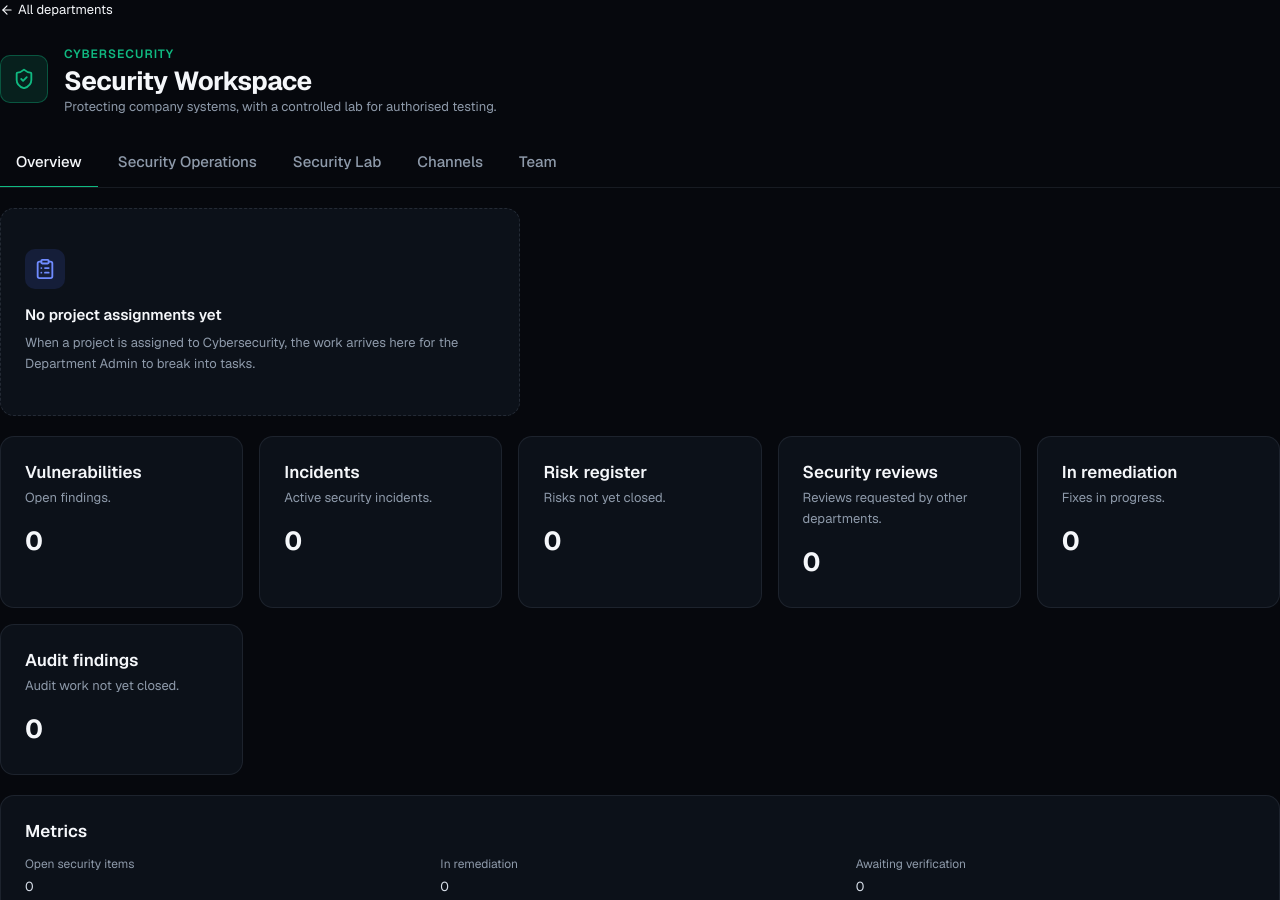
Test case: Department environment › Cybersecurity has Security Operations and a Security Lab with the authorised-use notice
The width and height of the screenshot is (1280, 900).
expect the heading "Security Workspace" is shown: met, box [64,64,312,98]
Click the tab "Security Lab" at (337, 163), box [277,138,397,188]
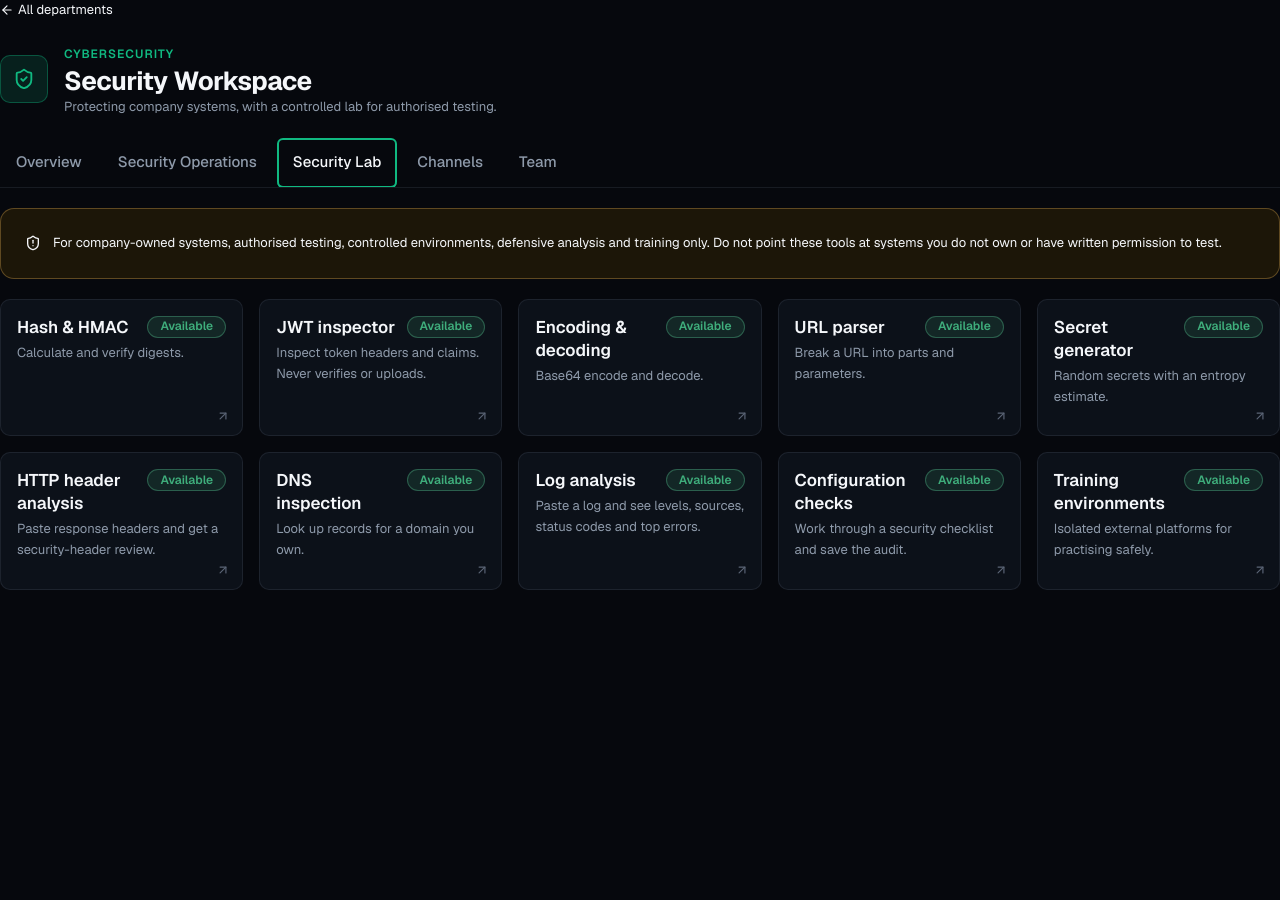
expect the heading "Hash & HMAC" is shown: met, box [17,316,129,339]
Click the tab "Security Operations" at (187, 163), box [102,138,273,188]
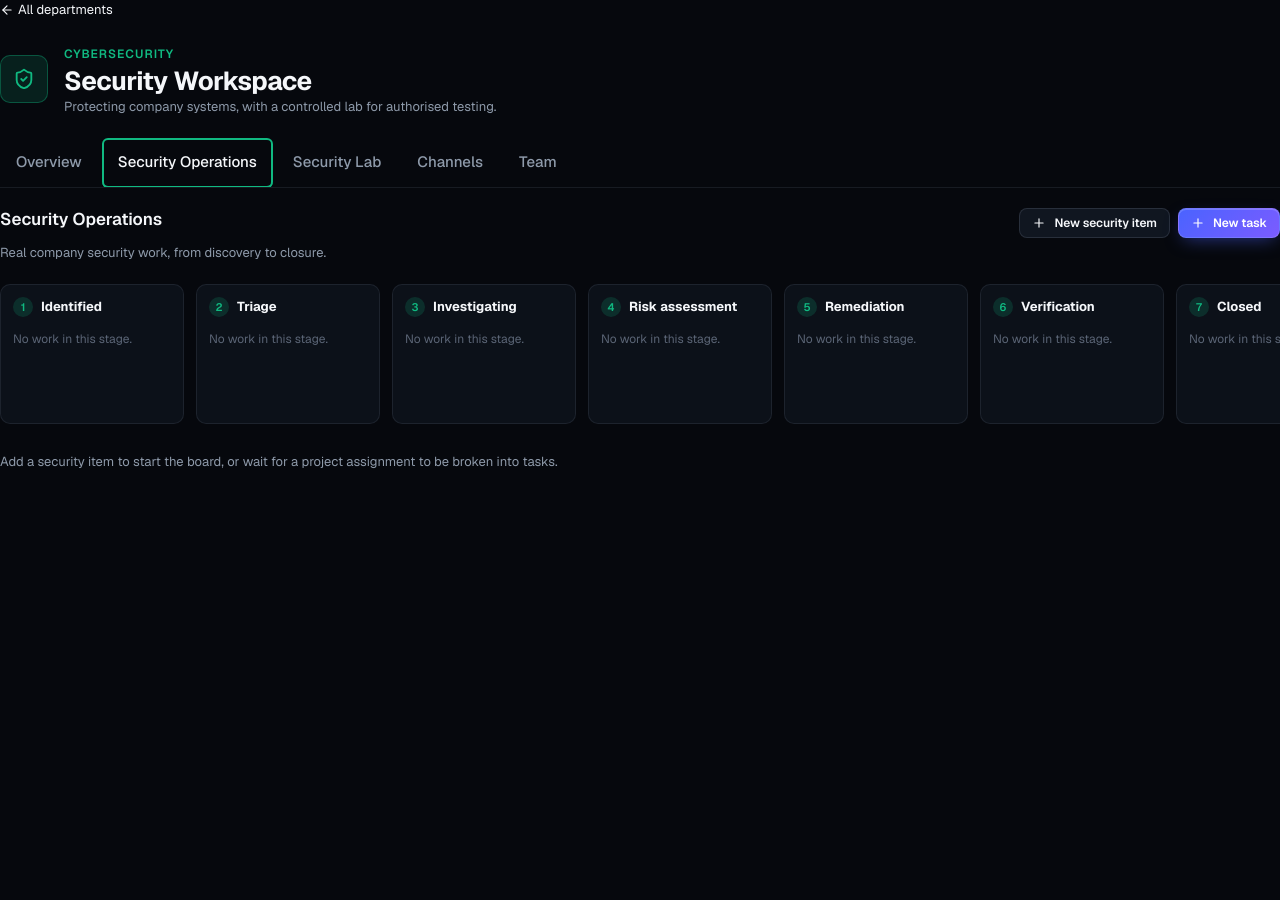
expect the heading "Risk assessment" is shown: met, box [629,297,737,318]
